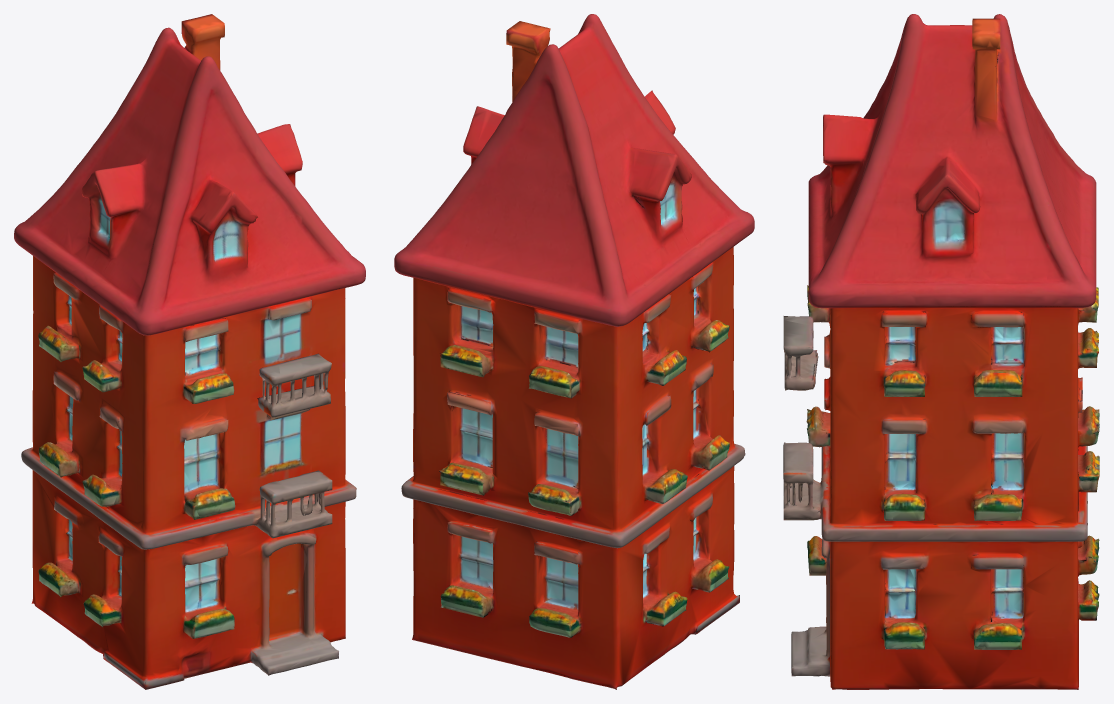
File: env_building_2.glb
3 views of the same model, side by side, from view 1: azimuth 30°, elevation 25°; view 2: azimuth 150°, elevation 25°; view 3: azimuth 270°, elevation 25° (orthographic). The views are drawn at different scales.
Visible parts, largest first — view 1: model; view 2: model; view 3: model.
Part boxes in pixels (x1,y1,x2,y2): model: (14, 14, 365, 689); model: (394, 14, 754, 689); model: (783, 14, 1099, 689).
Size of the model in its own units: 0.832 by 1.9 by 0.8705.
Materials: 1 (1 with a texture image).
